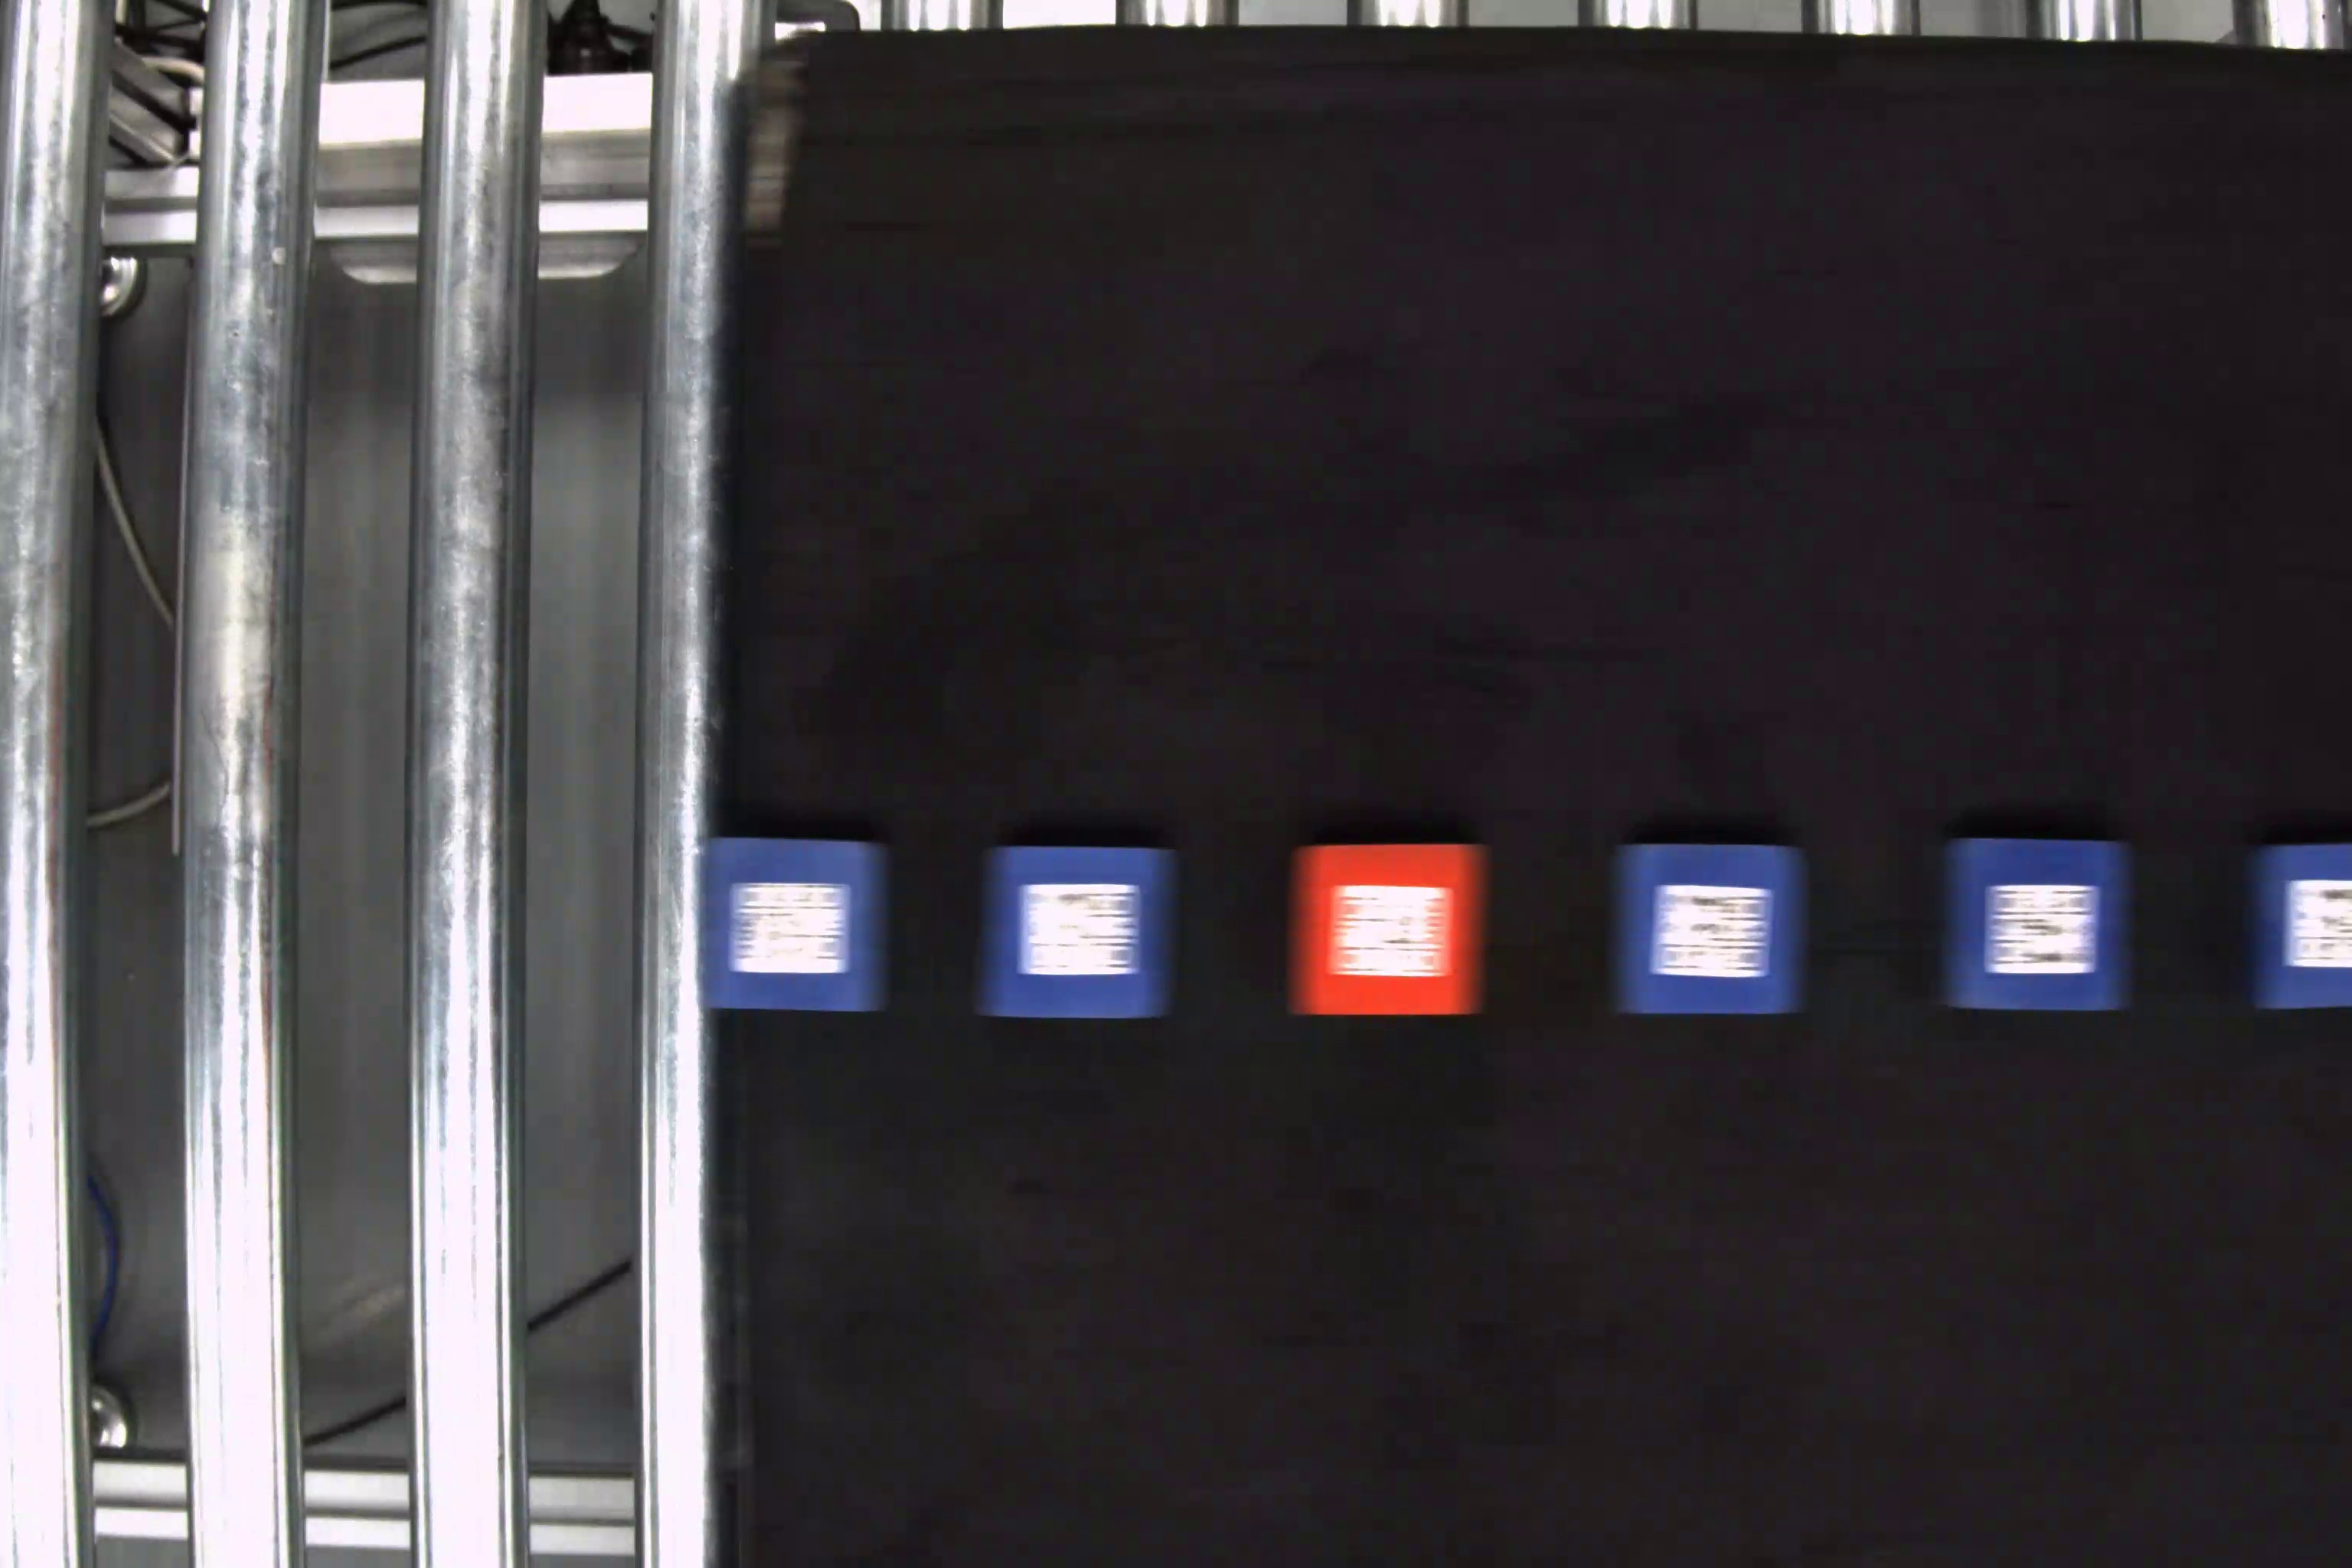wood: (980, 835, 1176, 1022), (1288, 840, 1486, 1017), (1942, 835, 2135, 1013), (696, 836, 891, 1008), (1617, 843, 1806, 1011), (2243, 842, 2352, 1008)
